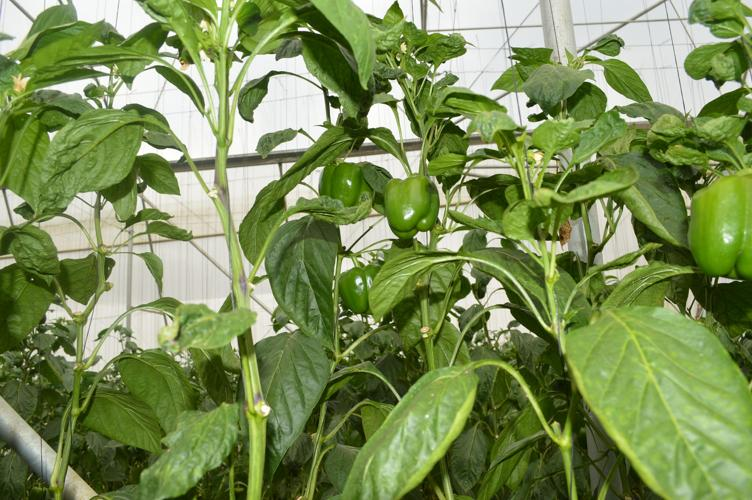BellPepper: (676, 151, 752, 287), (310, 149, 378, 226), (383, 176, 439, 239), (332, 264, 389, 317)
